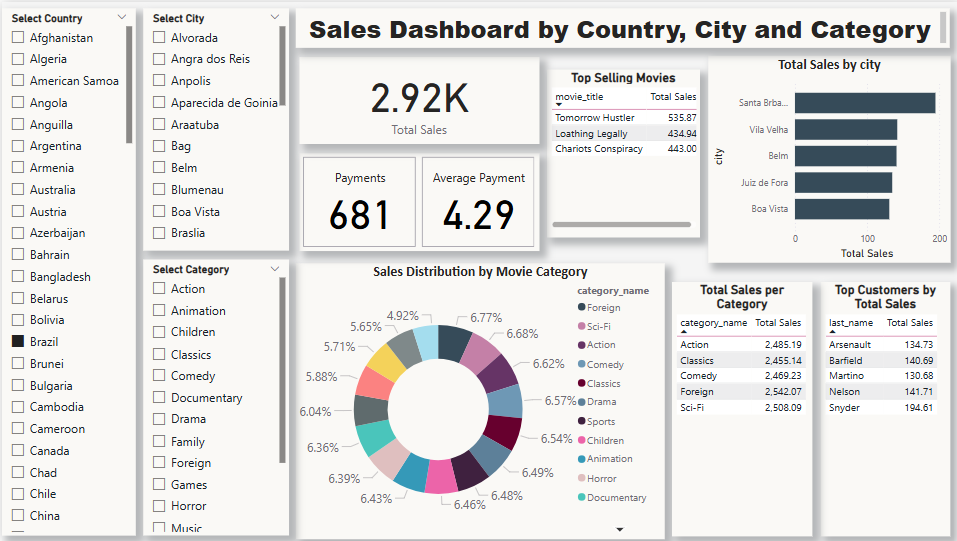

What the dashboard file says about the page in this screenshot:
{"tool":"powerbi","page":{"name":"Sales Dashboard","canvas":[1280,720],"ordinal":0},"visuals":[{"type":"slicer","fields":{"Values":["dim_locations.country"]},"box":[0,8.4,178.6,703.4],"z":0},{"type":"tableEx","title":"Top Customers by Total Sales","fields":{"Values":["dim_customers.last_name","fact_payments.Total Sales"]},"box":[1091.8,372.8,172.5,339],"z":1000},{"type":"tableEx","title":"Top Selling Movies","fields":{"Values":["dim_movies.movie_title","fact_payments.Total Sales"]},"box":[727.5,89.3,203.9,224.4],"z":2000},{"type":"donutChart","title":"Sales Distribution by Movie Category","fields":{"Category":["dim_movies.category_name"],"Y":["fact_payments.Total Sales"]},"box":[392.1,348.7,492.2,368],"z":3000},{"type":"cardVisual","title":"Total Number of Payments","fields":{"Data":["fact_payments.Number of Payments","fact_payments.Average Payment"]},"box":[396.9,201.5,319.7,130.3],"z":4000},{"type":"slicer","fields":{"Values":["dim_locations.city"]},"box":[188.2,8.4,194.2,323.3],"z":5000},{"type":"slicer","fields":{"Values":["dim_movies.category_name"]},"box":[188.2,343.8,194.2,368],"z":6000},{"type":"barChart","fields":{"Category":["dim_locations.city"],"Y":["fact_payments.Total Sales"]},"box":[941,72.4,323.3,276.3],"z":7000},{"type":"card","fields":{"Values":["fact_payments.Total Sales"]},"box":[396.9,73.6,319.7,115.8],"z":8000},{"type":"tableEx","title":"Total Sales per Category","fields":{"Values":["dim_movies.category_name","fact_payments.Total Sales"]},"box":[894,372.8,187,339],"z":9000},{"type":"textbox","box":[392.1,8.4,872.3,53.1],"z":10000}]}

Visuals, with their boxes in screenshot pixels (x1, y1, x2, y2), scaled from the page's 1280x720 canvas onto the 957x541 screenshot:
slicer - dim_locations.country: l=0, t=6, r=134, b=535
"Top Customers by Total Sales" tableEx: l=816, t=280, r=945, b=535
"Top Selling Movies" tableEx: l=544, t=67, r=696, b=236
"Sales Distribution by Movie Category" donutChart: l=293, t=262, r=661, b=539
"Total Number of Payments" cardVisual: l=297, t=151, r=536, b=249
slicer - dim_locations.city: l=141, t=6, r=286, b=249
slicer - dim_movies.category_name: l=141, t=258, r=286, b=535
barChart - dim_locations.city x fact_payments.Total Sales: l=704, t=54, r=945, b=262
card - fact_payments.Total Sales: l=297, t=55, r=536, b=142
"Total Sales per Category" tableEx: l=668, t=280, r=808, b=535
textbox: l=293, t=6, r=945, b=46
